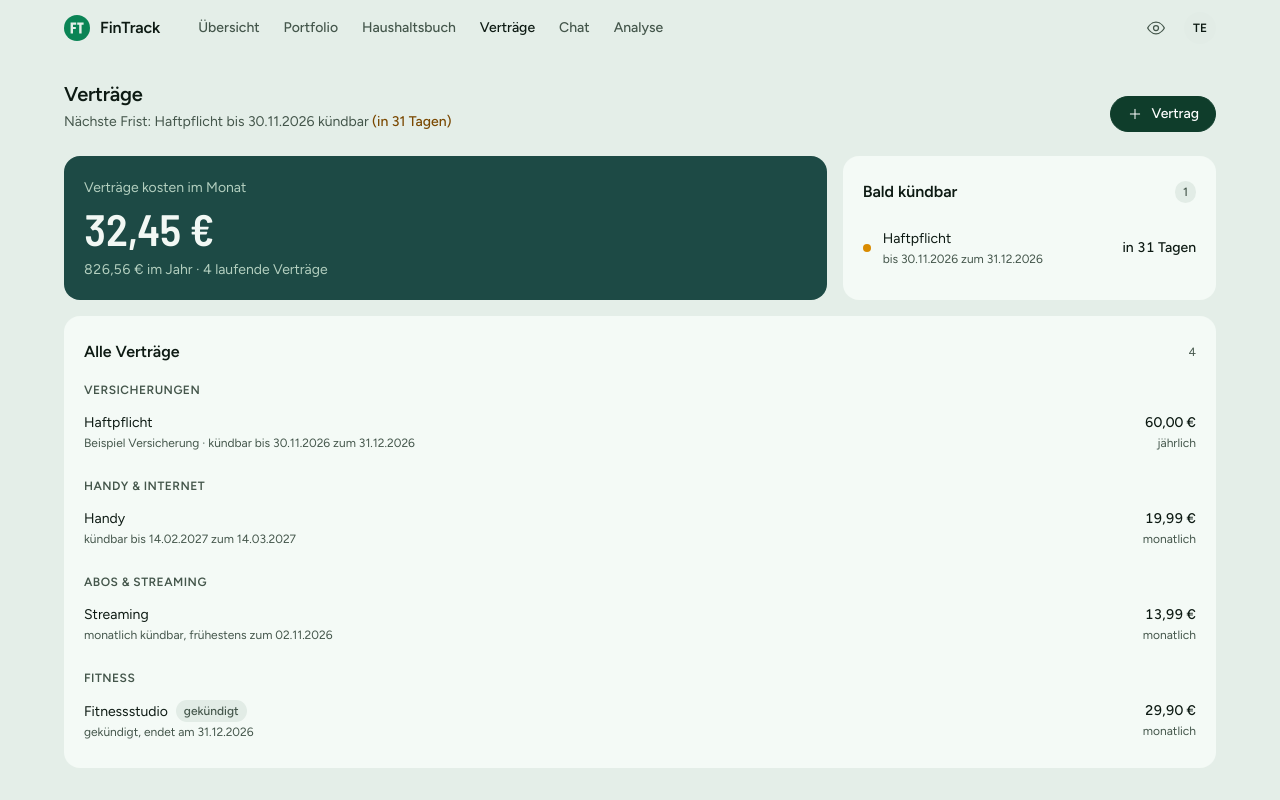
Test: Verträge › nimmt eine Kündigung zurück
The image size is (1280, 800).
Click the button "Fitnessstudio": x=126, y=712 x1=84 y1=692 x2=1196 y2=748
(page scrolled)
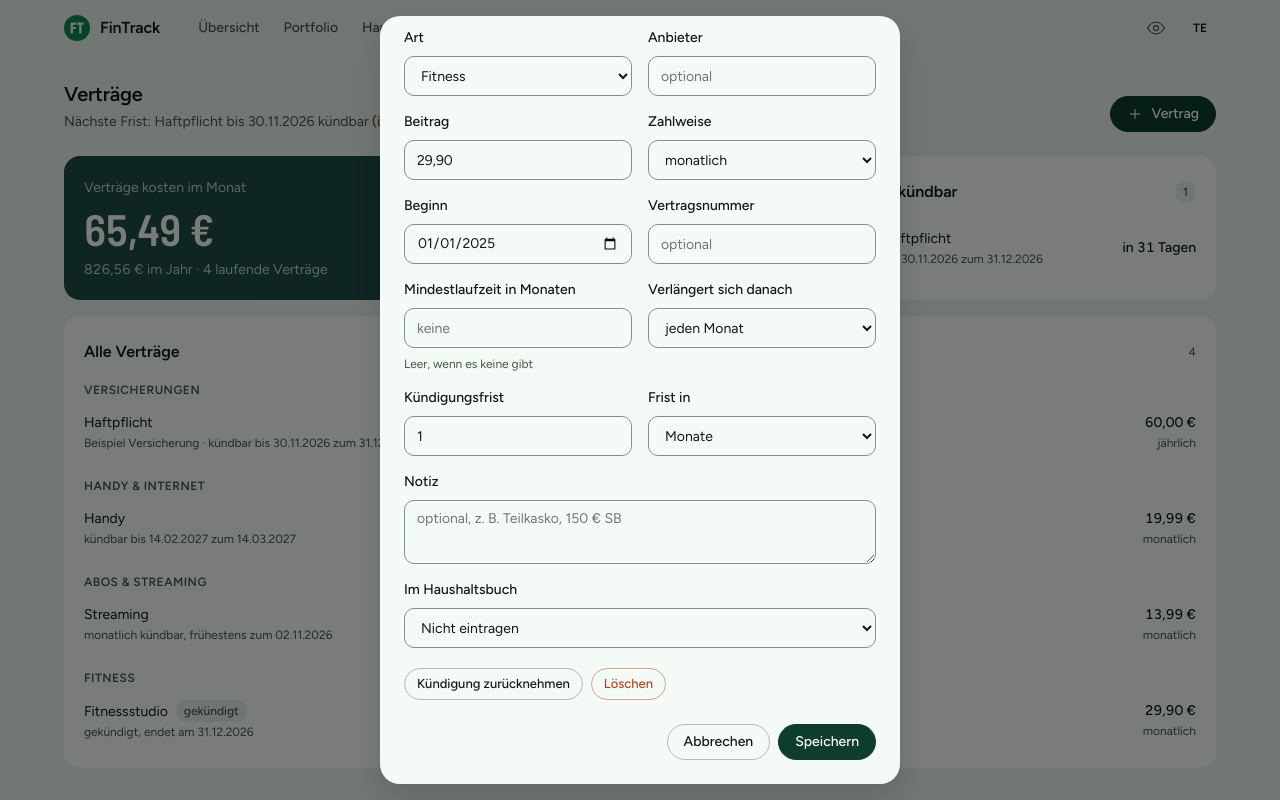
Click the button "Kündigung zurücknehmen": x=493, y=684 x1=404 y1=668 x2=583 y2=700
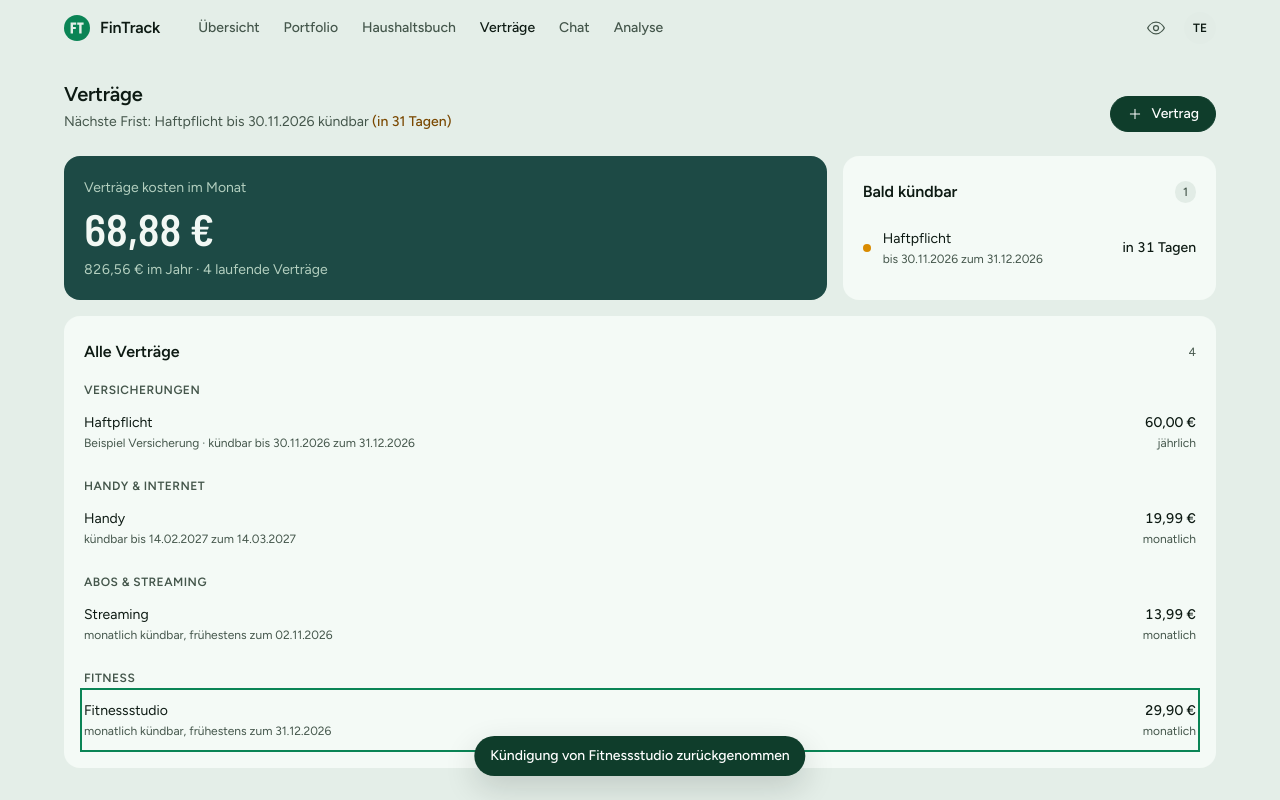
Expected: the text "Kündigung von Fitnessstudio zurückgenommen" is shown, x1=474 y1=736 x2=806 y2=776
Expected: the text "gekündigt" is gone
